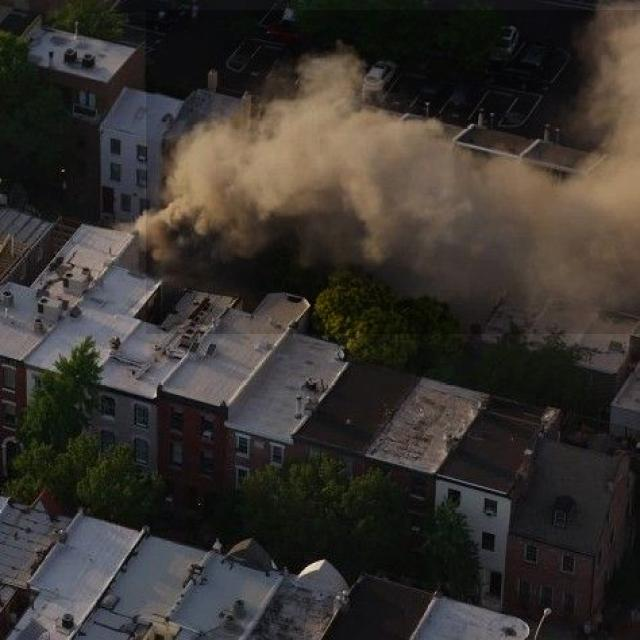Smoke: (146, 11, 640, 334)
